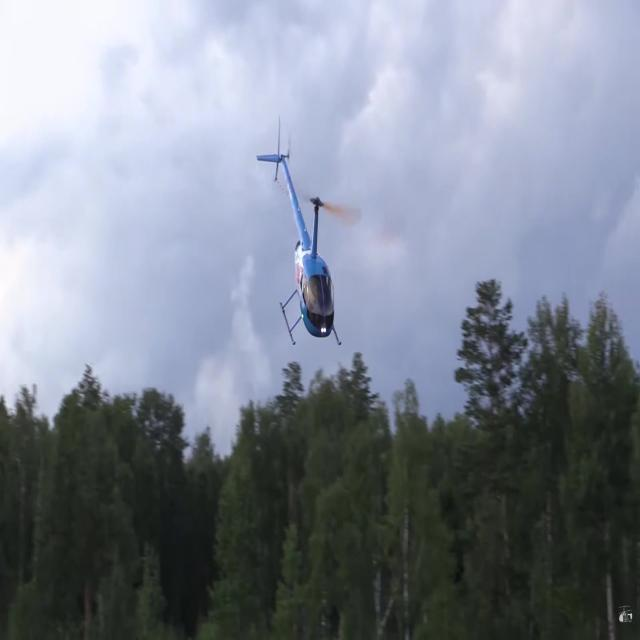CIV_HELO: (255, 116, 343, 350)
